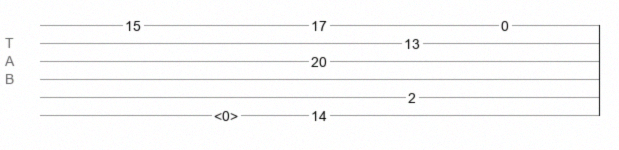0: (501, 18, 509, 28)
13: (404, 36, 420, 46)
14: (311, 108, 327, 118)
15: (125, 18, 141, 28)
17: (311, 18, 327, 28)
2: (408, 90, 416, 100)
20: (311, 54, 327, 64)
harmonic: (214, 108, 238, 118)
